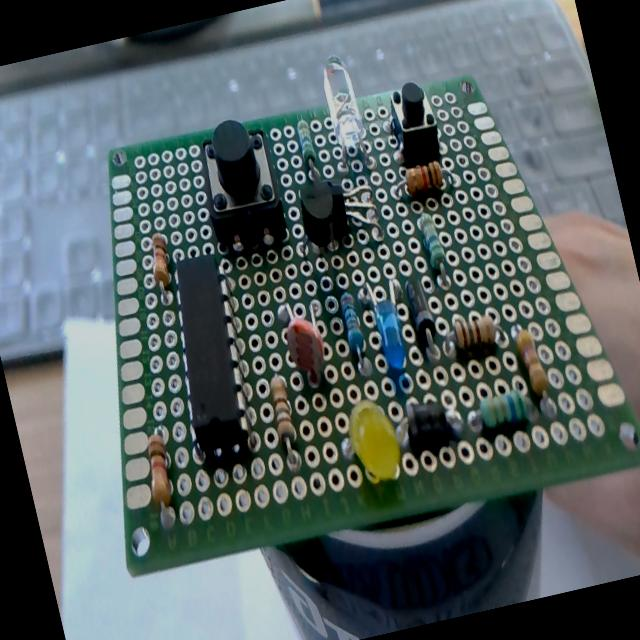IC: (148, 250, 269, 466)
cds: (274, 293, 334, 389)
diode: (397, 391, 467, 456), (402, 274, 441, 352)
led: (313, 52, 376, 175), (342, 393, 408, 487), (366, 276, 412, 370)
resistor: (137, 428, 186, 528), (264, 375, 304, 468), (512, 326, 550, 399), (447, 308, 501, 359), (476, 386, 529, 436), (337, 288, 368, 360), (144, 230, 177, 292), (415, 210, 447, 271), (402, 158, 447, 199), (294, 117, 318, 168)
switch: (188, 114, 292, 256), (383, 76, 444, 166)
transistor: (316, 173, 386, 250), (290, 168, 354, 252)
